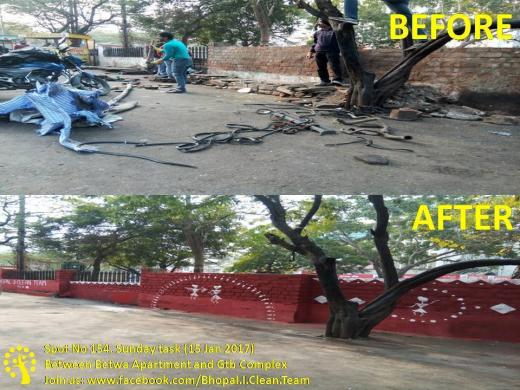Good: (389, 326, 513, 390), (113, 300, 293, 342), (295, 322, 401, 372), (5, 290, 120, 328)
IGNORE: (377, 8, 515, 51), (409, 202, 516, 241)
Industrial : General: (333, 112, 416, 167), (256, 99, 340, 141), (182, 117, 277, 154), (213, 74, 316, 106)
